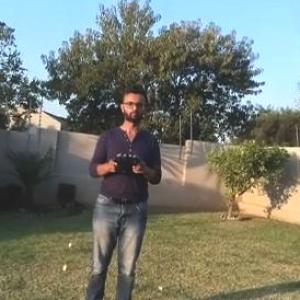follow: (81, 80, 169, 299)
